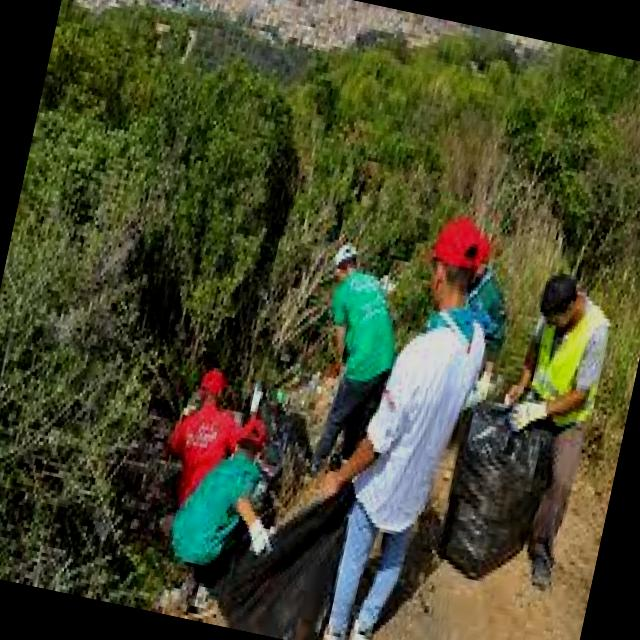garbage: (208, 450, 356, 640), (428, 392, 562, 592)
